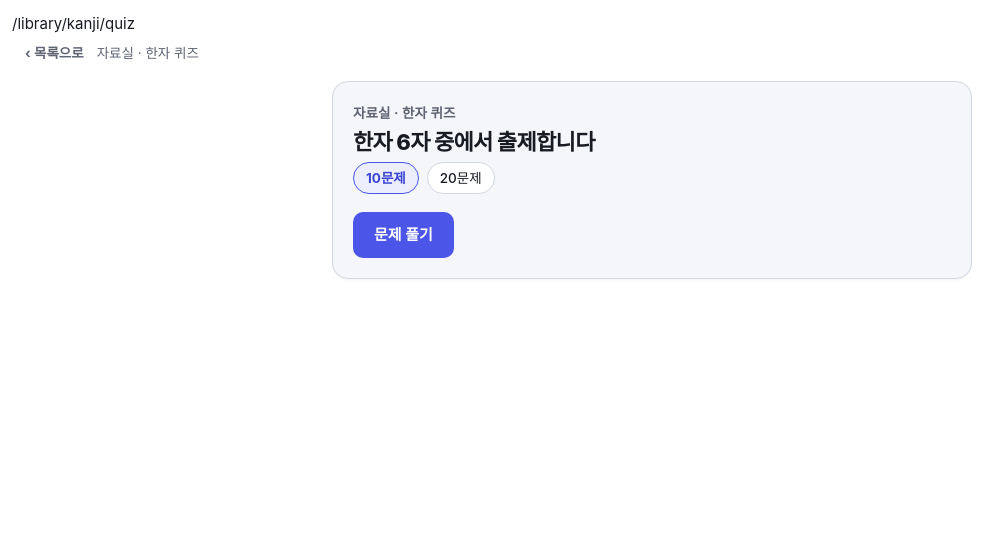
Scenario: 자료실 퀴즈 화면 (§3-2) › [문제 풀기]를 누르면 문제가 나온다
Click the button "문제 풀기": point(403, 235) 353,212 -> 454,258
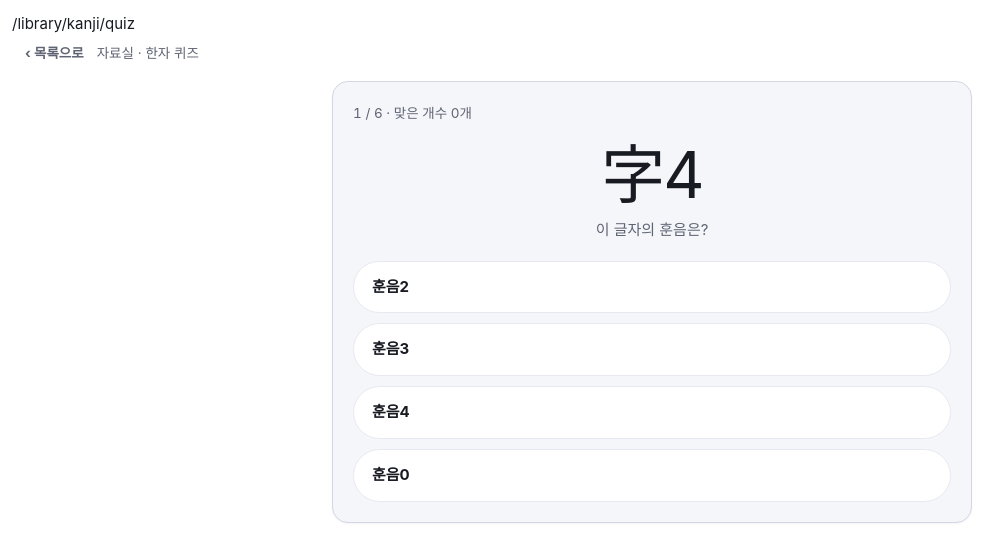
Check: the text "1 / 6 · 맞은 개수 0개" is shown, box 353,105 -> 472,121
